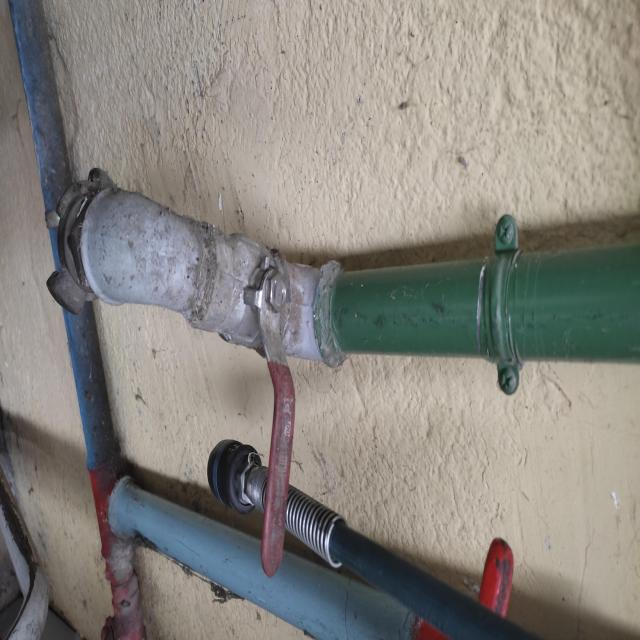closed_valve: (212, 222, 299, 584)
